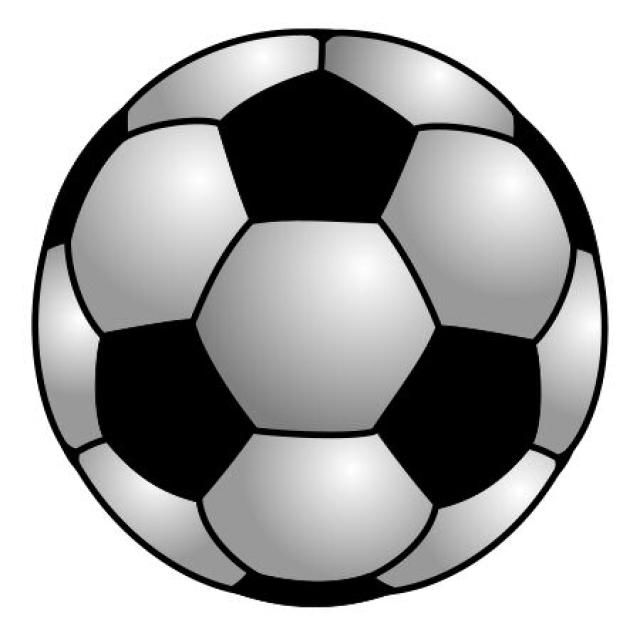soccer ball: (38, 30, 608, 606)
